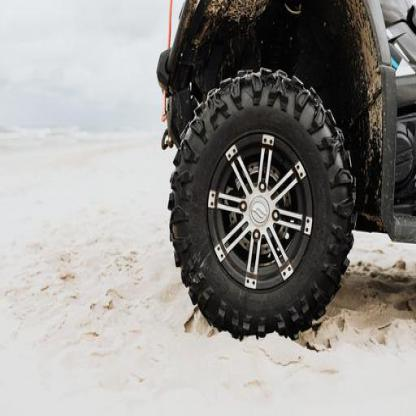Tire: (168, 66, 357, 341)
